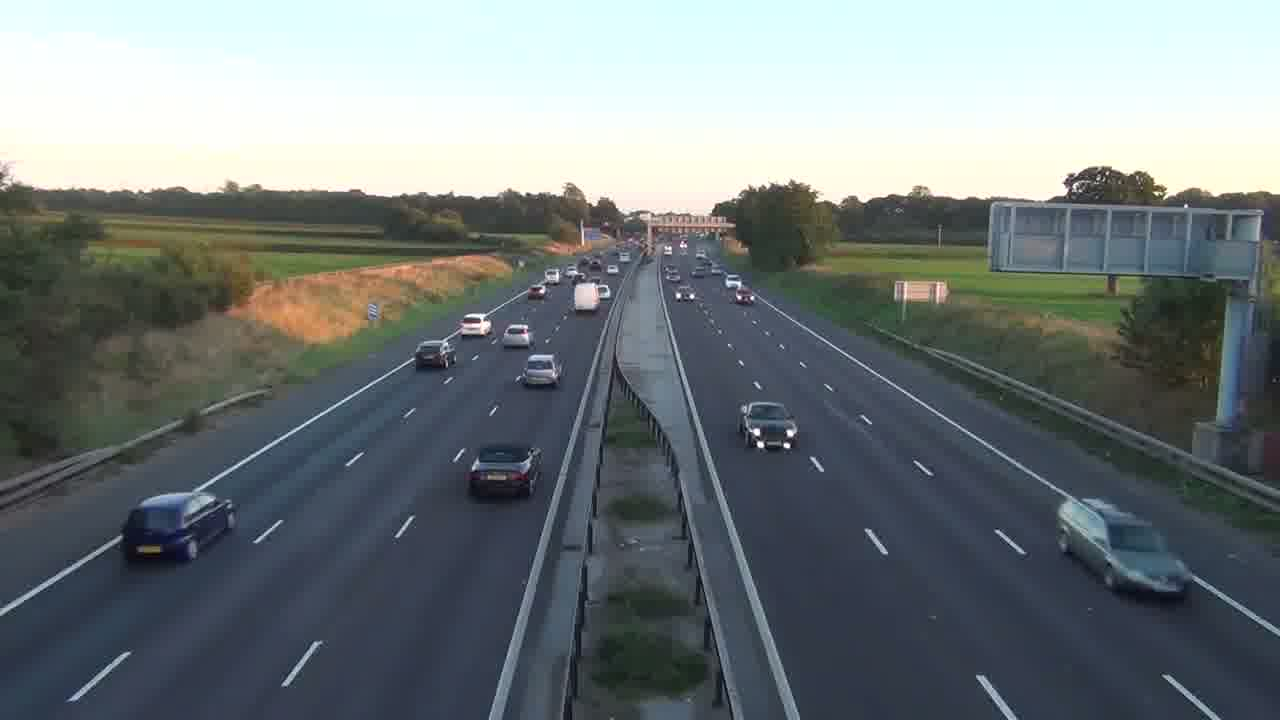car: (466, 442, 544, 499), (739, 400, 800, 452), (520, 352, 562, 387), (415, 340, 449, 368), (503, 323, 532, 349)
truck: (1055, 495, 1190, 600), (121, 491, 238, 563), (573, 282, 600, 312)
